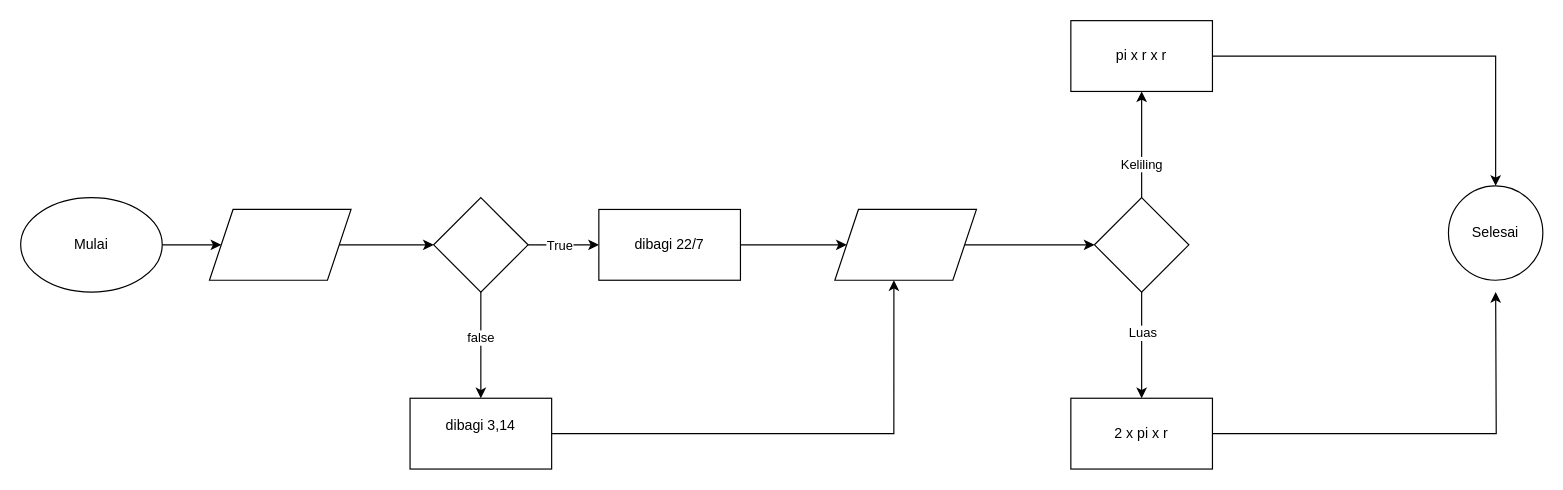
This 1563x490 diagram has some shape labels left out. Here are the shapes that lost their labels. From the top down, the centre of each, then its label:
At point 279,244: "Input Tuntukan nilai pi".
At point 480,244: "Jika Habis dibagi 7".
At point 905,244: "Hitung luas/ keliling".
